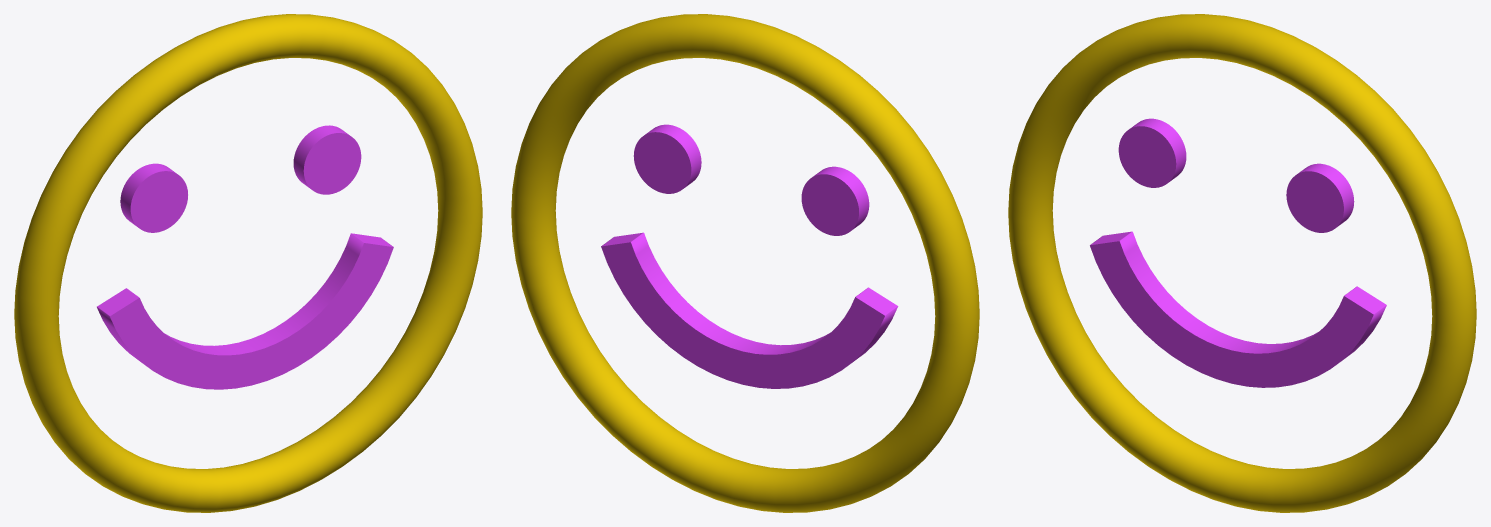
File: smile6.glb
3 views of the same model, side by side, from view 1: azimuth 30°, elevation 25°; view 2: azimuth 150°, elevation 25°; view 3: azimuth 330°, elevation 25° (orthographic).
Parts seen in each view (by area): view 1: torus, Curve.003, Curve.002, Curve.001; view 2: torus, Curve.003, Curve.001, Curve.002; view 3: torus, Curve.003, Curve.001, Curve.002.
Part boxes in pixels (x1=…): torus: x1=14, y1=14, x2=482, y2=512; Curve.003: x1=97, y1=233, x2=393, y2=389; Curve.002: x1=293, y1=125, x2=361, y2=194; Curve.001: x1=120, y1=163, x2=187, y2=232; torus: x1=511, y1=14, x2=979, y2=512; Curve.003: x1=601, y1=232, x2=898, y2=388; Curve.001: x1=801, y1=166, x2=869, y2=235; Curve.002: x1=633, y1=124, x2=701, y2=193; torus: x1=1008, y1=14, x2=1476, y2=512; Curve.003: x1=1090, y1=231, x2=1386, y2=387; Curve.001: x1=1118, y1=118, x2=1186, y2=187; Curve.002: x1=1286, y1=163, x2=1354, y2=232.
Bounding box in the file's own units: 7.2 × 7.2 × 0.6496.
